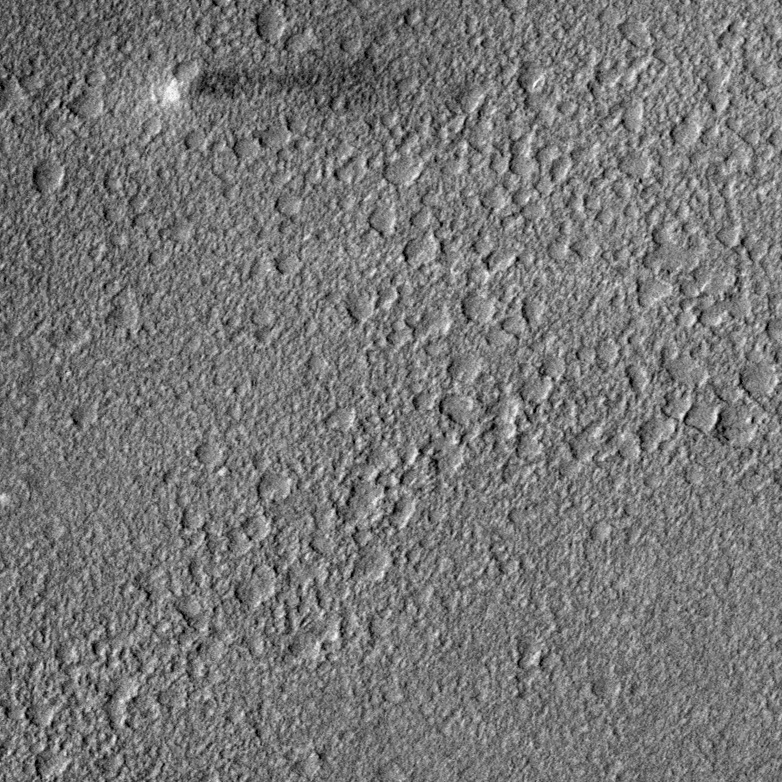dust_devil: (155, 59, 378, 112)
